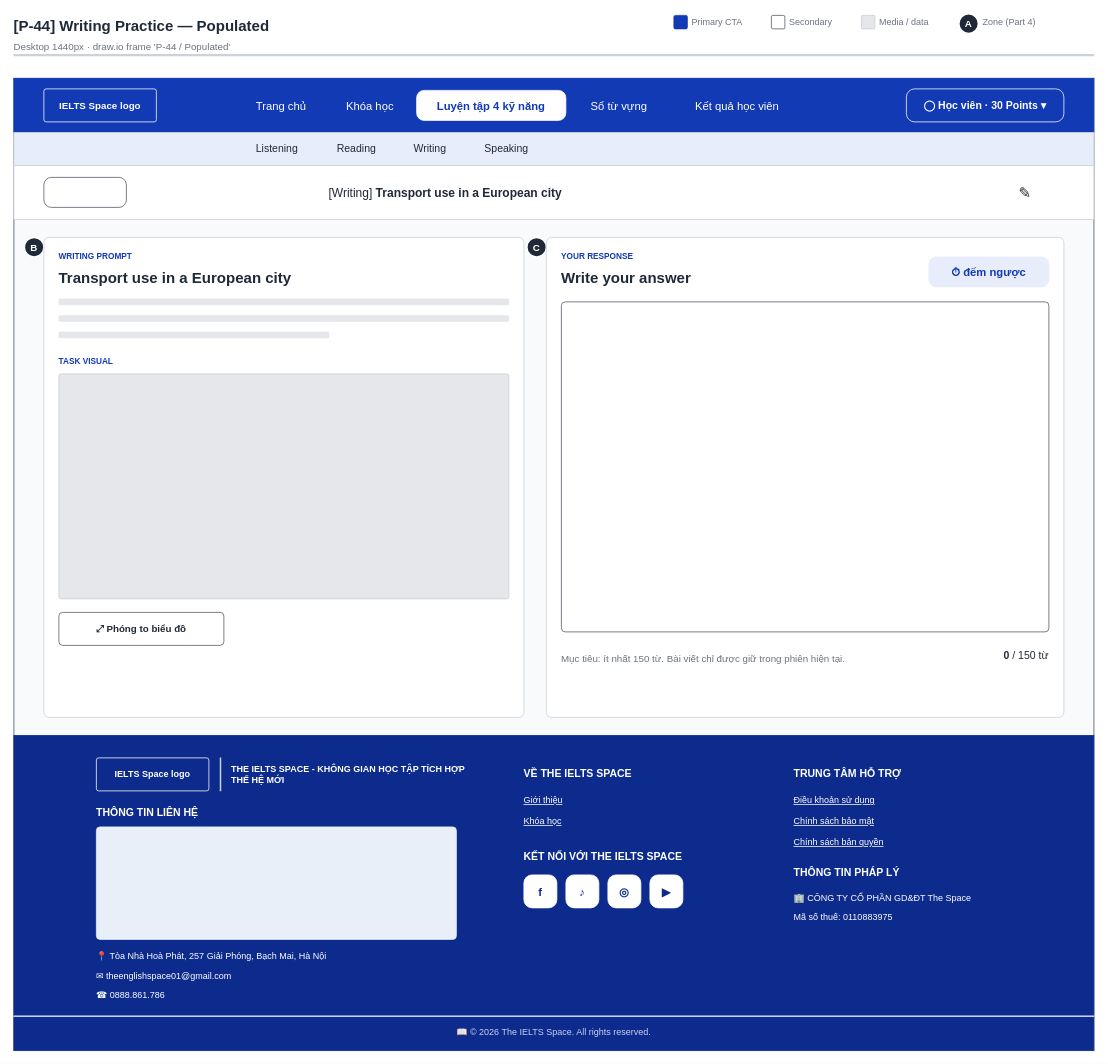
Image size: 1108x1064. Some labels were removed from this diagram. Here are the shapes that lost their labels. From the top down, the centre of each, then its label:
pixel 84 192: ← Thoát
pixel 283 486: ▨ Bar chart (SVG) · legend Car / Bus / Bicycle …
pixel 805 466: Start writing your response here…
pixel 276 882: 📍 The IELTS Space Mở trong Maps ↗
